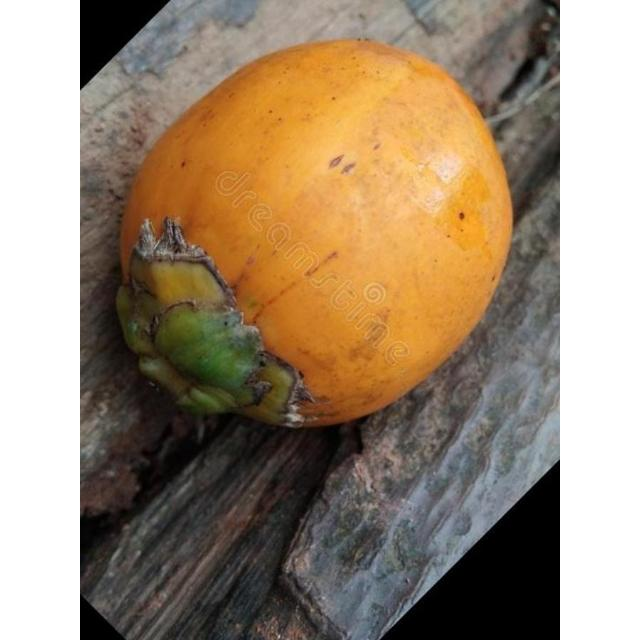good: (114, 40, 514, 432)
